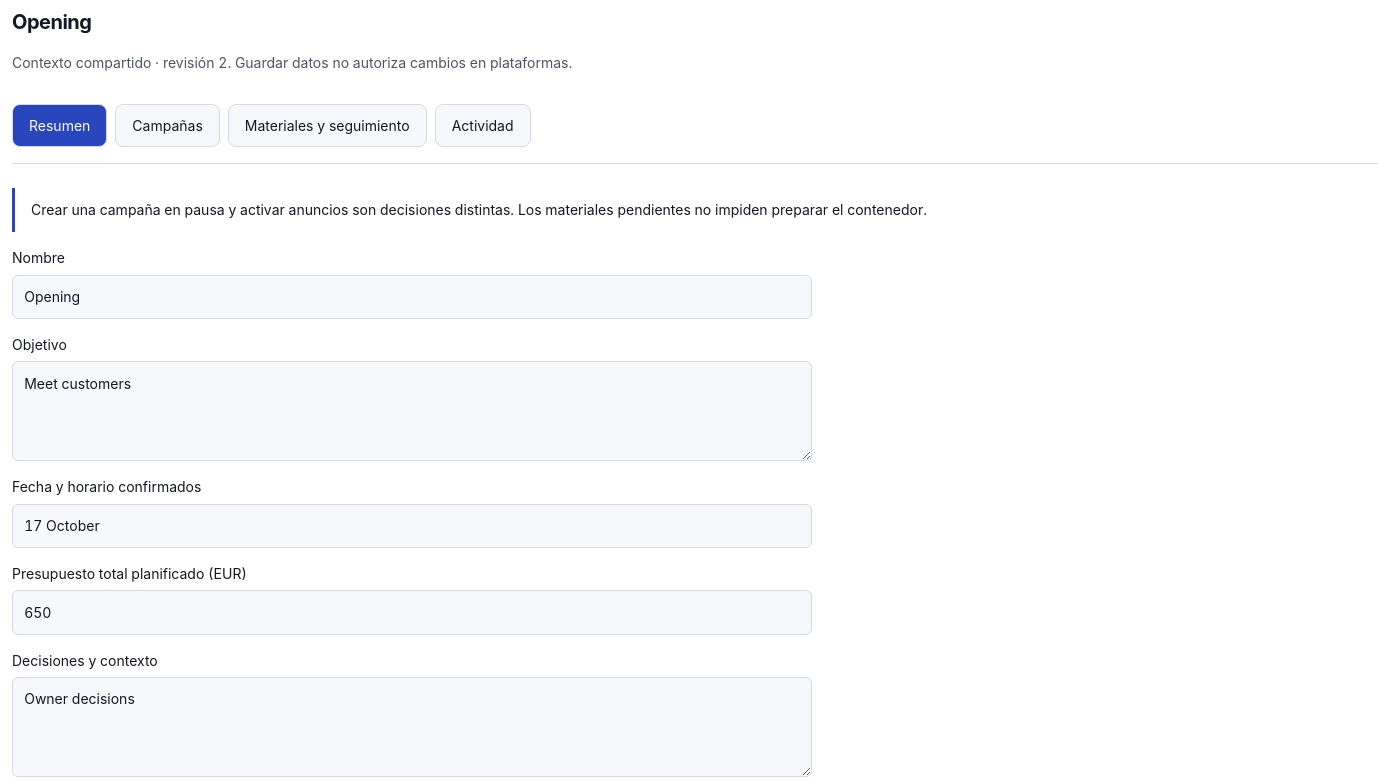
Test: prepares through the shared command without needing videos or invoking approval
This screenshot has width=1378, height=780.
Click the button "Campañas". click: click(168, 126)
box: [115, 104, 220, 147]
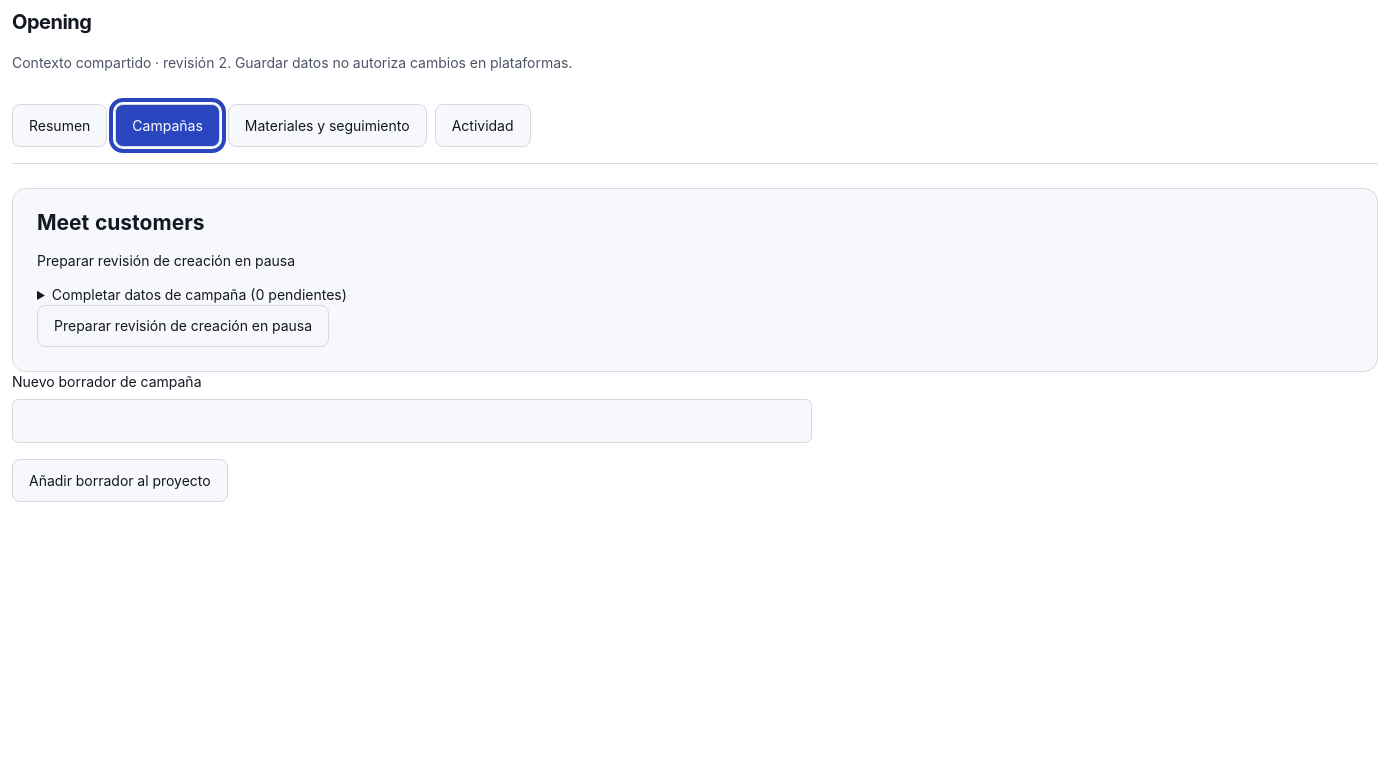
Click the button "Preparar revisión de creación en pausa". click: click(183, 326)
box: [37, 305, 329, 347]
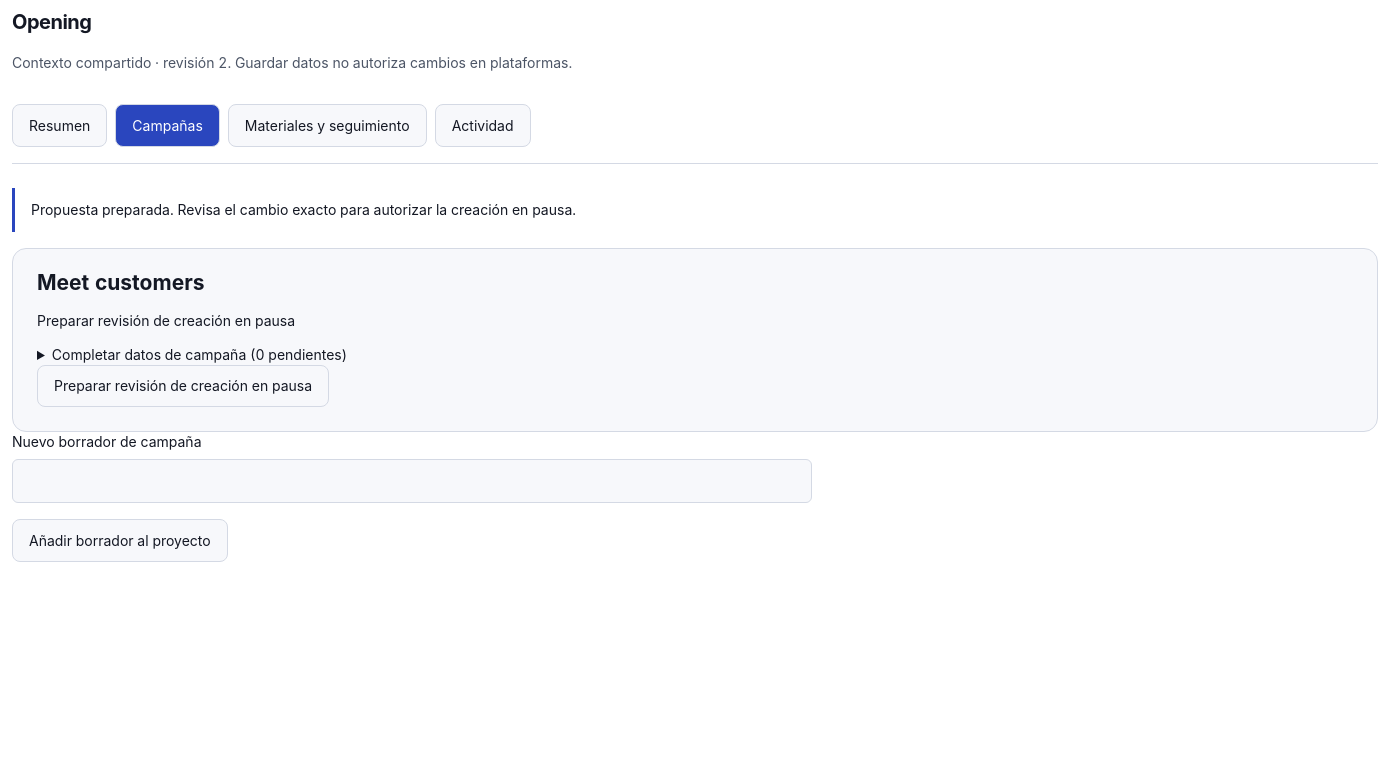
Expected: the button "Activar" is not shown
Expected: the text "Propuesta preparada. Revisa el cambio exacto" is shown, [31, 201, 576, 218]
